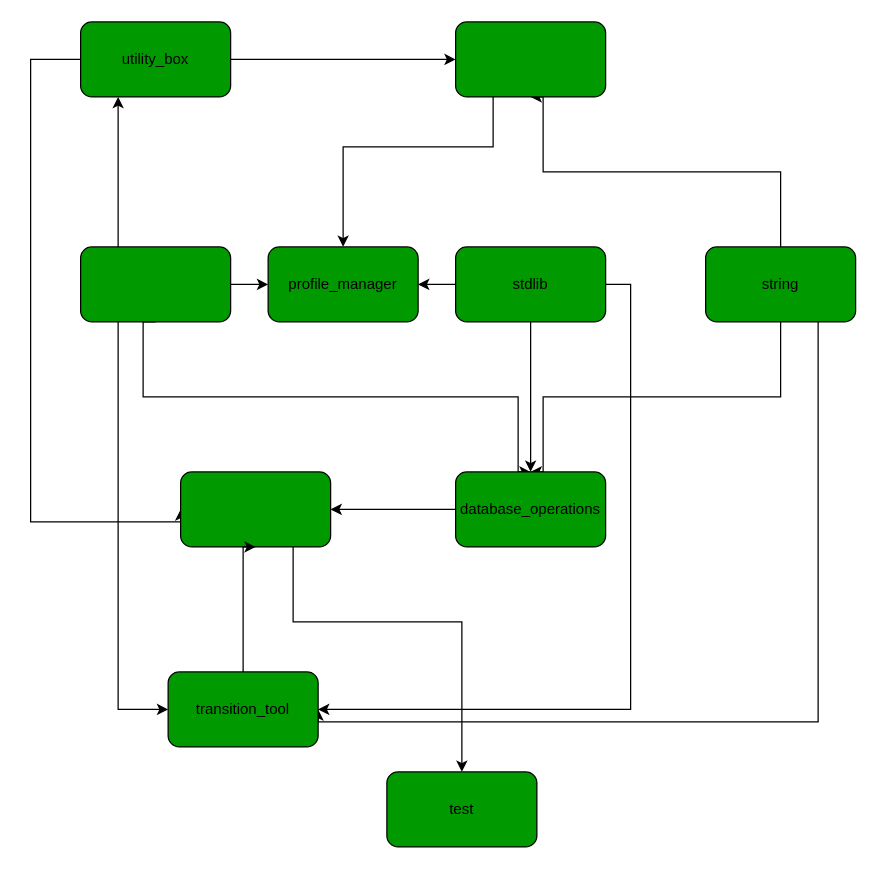
Some shapes in this 878 by 869 pixel diagram are drawn without their labels. Each missing label, with the box of its shape:
encrypter: (454, 21, 606, 97)
stdio: (79, 246, 231, 322)
syntax_parser: (179, 471, 331, 547)
